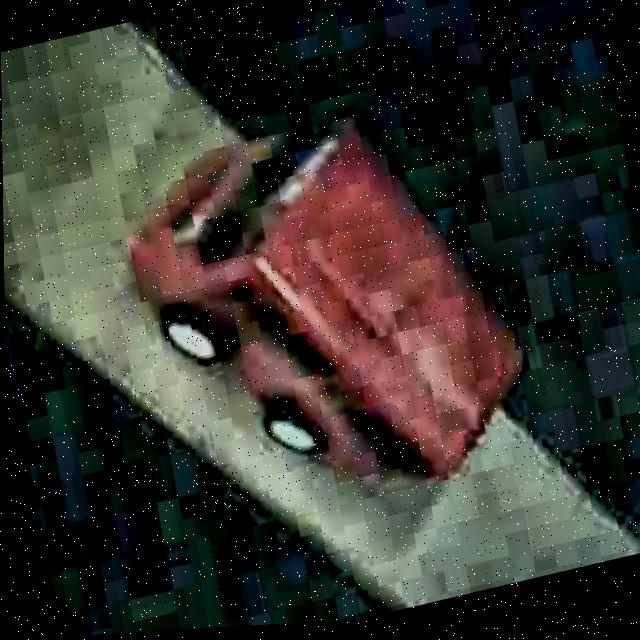bus: (112, 82, 545, 544)
